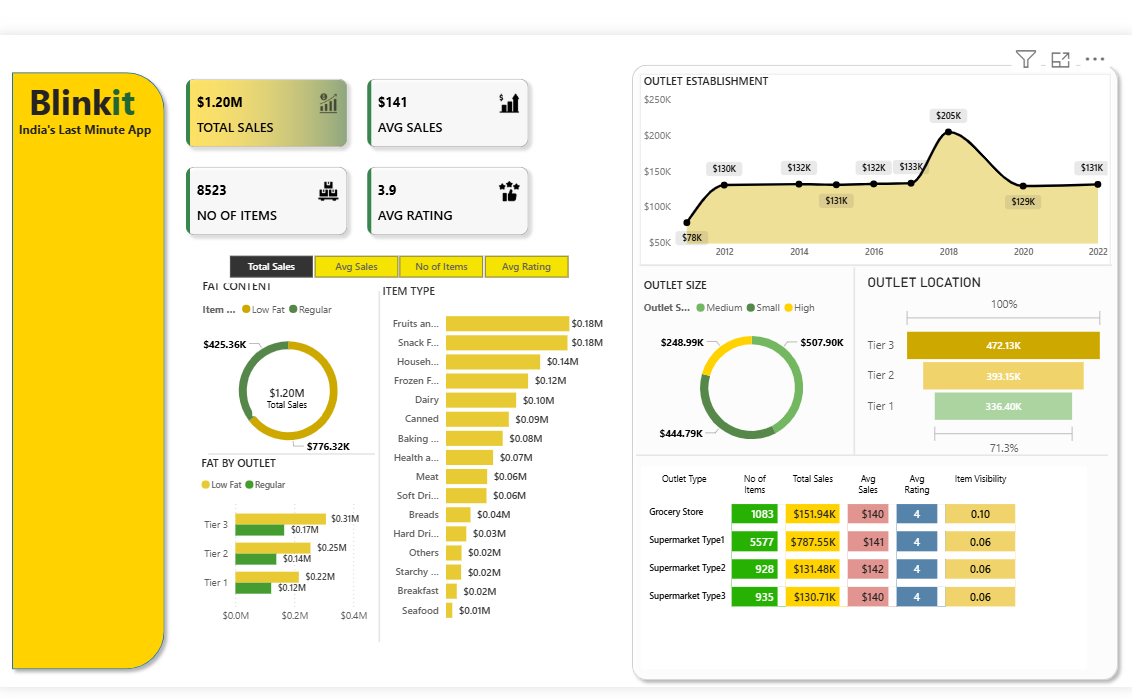

The dashboard page shown, as its layout file describes it:
{"tool":"powerbi","page":{"name":"Blinkit","canvas":[1400,800],"ordinal":0},"visuals":[{"type":"shape","box":[10.5,37.5,205,750.4],"z":0},{"type":"textbox","box":[36,48,153.1,70.5],"z":1000},{"type":"textbox","box":[22.5,100.6,315.2,34.5],"z":2000},{"type":"cardVisual","fields":{"Data":["BlinkIT Grocery Data.Total Sales","BlinkIT Grocery Data.Avg Sales","BlinkIT Grocery Data.No of Items","BlinkIT Grocery Data.Avg Rating"]},"box":[215.7,37.1,454.3,227.1],"z":3000},{"type":"shape","box":[771.4,27,613.9,772.9],"z":4000},{"type":"donutChart","title":"FAT CONTENT","fields":{"Y":["BlinkIT Grocery Data.Total Sales"],"Category":["BlinkIT Grocery Data.Item Fat Content"]},"box":[249.1,298.7,220.6,229.6],"z":5000},{"type":"slicer","fields":{"Values":["Metrics 2.Metrics"]},"box":[261.2,264.2,465.3,40.5],"z":6000},{"type":"cardVisual","fields":{"Data":["BlinkIT Grocery Data.Total Sales"]},"box":[313.7,412.7,85.5,55.5],"z":7000},{"type":"clusteredBarChart","title":"FAT BY OUTLET","fields":{"Y":["BlinkIT Grocery Data.Total Sales"],"Category":["BlinkIT Grocery Data.Outlet Location Type"],"Series":["BlinkIT Grocery Data.Item Fat Content"]},"box":[247.6,514.8,220.6,214.6],"z":8000},{"type":"shape","box":[261.2,492.3,204.1,43.5],"z":9000},{"type":"shape","box":[444.3,313.7,51,430.7],"z":10000},{"type":"barChart","title":"ITEM TYPE","fields":{"Y":["BlinkIT Grocery Data.Total Sales"],"Category":["BlinkIT Grocery Data.Item Type"]},"box":[469.8,304.7,280.7,424.7],"z":11000},{"type":"lineChart","title":"OUTLET ESTABLISHMENT","fields":{"Y":["BlinkIT Grocery Data.Total Sales"],"Category":["BlinkIT Grocery Data.Outlet Establishment Year"]},"box":[789.5,48,579.3,235.6],"z":12000},{"type":"shape","box":[789.5,261.2,579.3,43.5],"z":13000},{"type":"donutChart","title":"OUTLET SIZE","fields":{"Y":["BlinkIT Grocery Data.Total Sales"],"Category":["BlinkIT Grocery Data.Outlet Size","BlinkIT Grocery Data.Item Fat Content"],"Series":["BlinkIT Grocery Data.Outlet Size"]},"box":[789.5,297.2,275,225],"z":14000},{"type":"shape","box":[1028.1,285.2,51,229.6],"z":15000},{"type":"funnel","title":"OUTLET LOCATION","fields":{"Category":["BlinkIT Grocery Data.Outlet Location Type"],"Y":["Sum(BlinkIT Grocery Data.Sales)"]},"box":[1064.1,292.7,300.2,230],"z":16000},{"type":"shape","box":[785,493.8,579.3,43.5],"z":17000},{"type":"pivotTable","fields":{"Rows":["BlinkIT Grocery Data.Outlet Type"],"Values":["BlinkIT Grocery Data.No of Items","BlinkIT Grocery Data.Total Sales","BlinkIT Grocery Data.Avg Sales","BlinkIT Grocery Data.Avg Rating","Avg(BlinkIT Grocery Data.Item Visibility)"]},"box":[791.4,529.1,547.5,248.5],"z":18000}]}

Visuals, with their boxes on the page's 1400x800 design canvas (x1, y1, x2, y2). These are canvas units, not pixel positions in the 1132x699 screenshot, which may show the page scaled, cropped or inside an application window:
shape: locate(10, 38, 216, 788)
textbox: locate(36, 48, 189, 118)
textbox: locate(22, 101, 338, 135)
cardVisual - BlinkIT Grocery Data.Total Sales x BlinkIT Grocery Data.Avg Sales: locate(216, 37, 670, 264)
shape: locate(771, 27, 1385, 800)
"FAT CONTENT" donutChart: locate(249, 299, 470, 528)
slicer - Metrics 2.Metrics: locate(261, 264, 726, 305)
cardVisual - BlinkIT Grocery Data.Total Sales: locate(314, 413, 399, 468)
"FAT BY OUTLET" clusteredBarChart: locate(248, 515, 468, 729)
shape: locate(261, 492, 465, 536)
shape: locate(444, 314, 495, 744)
"ITEM TYPE" barChart: locate(470, 305, 750, 729)
"OUTLET ESTABLISHMENT" lineChart: locate(790, 48, 1369, 284)
shape: locate(790, 261, 1369, 305)
"OUTLET SIZE" donutChart: locate(790, 297, 1064, 522)
shape: locate(1028, 285, 1079, 515)
"OUTLET LOCATION" funnel: locate(1064, 293, 1364, 523)
shape: locate(785, 494, 1364, 537)
pivotTable - BlinkIT Grocery Data.Outlet Type x BlinkIT Grocery Data.No of Items: locate(791, 529, 1339, 778)
